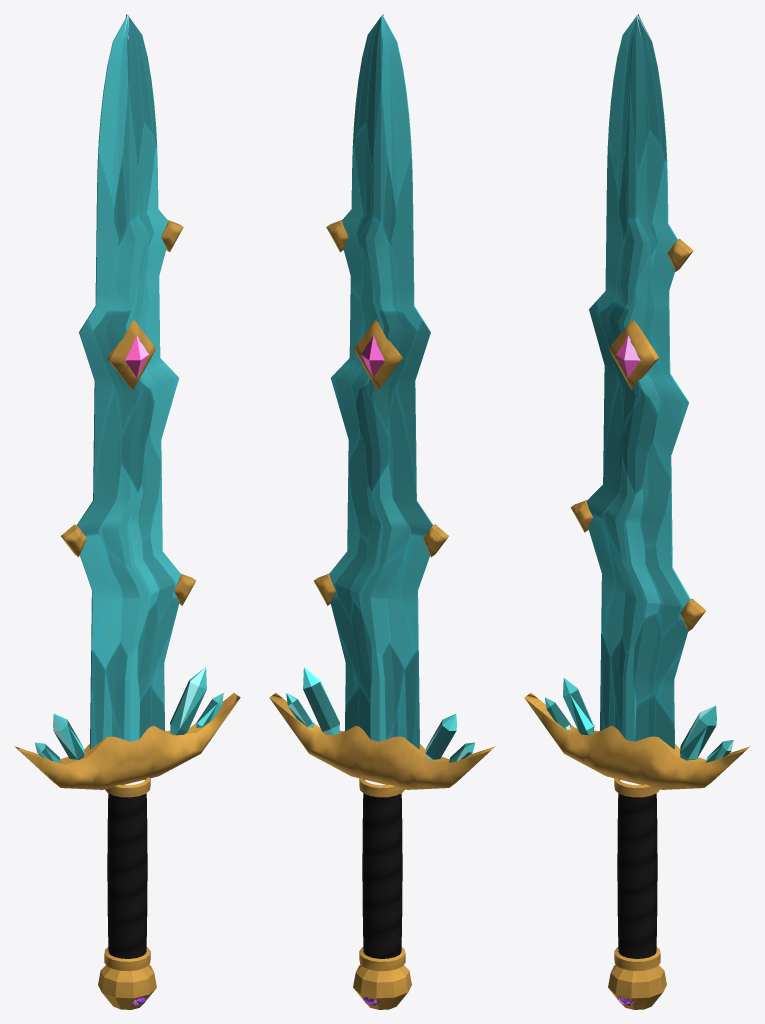
File: TidecrystalShard.glb
The picture shows the model from 3 angles, left to right: view 1: azimuth 30°, elevation 25°; view 2: azimuth 150°, elevation 25°; view 3: azimuth 330°, elevation 25°; orthographic projection.
Visible parts, largest first — view 1: TidecrystalShard; view 2: TidecrystalShard; view 3: TidecrystalShard.
Boxes of the visible parts, bbox=[...] form: TidecrystalShard: bbox=[14, 14, 240, 1009]; TidecrystalShard: bbox=[269, 14, 495, 1009]; TidecrystalShard: bbox=[524, 14, 750, 1009].
Bounding box in the file's own units: 0.94 × 4.05 × 0.2092.
Materials: 1 (1 with a texture image).
